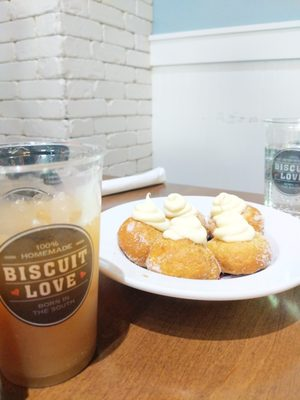pizza: (0, 140, 106, 389), (262, 116, 300, 216)
